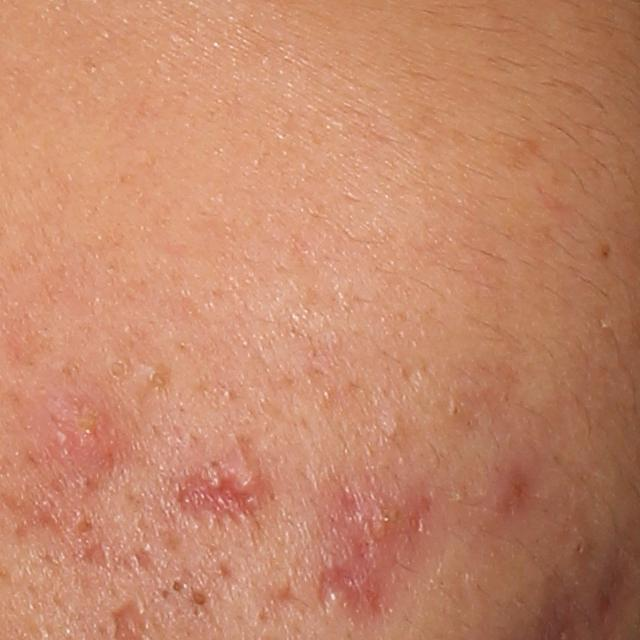atrophic_scar: (235, 481, 444, 631), (158, 433, 291, 563)
comedo: (185, 587, 214, 610), (104, 358, 132, 381), (142, 371, 173, 391), (381, 416, 406, 439), (170, 579, 187, 593)
